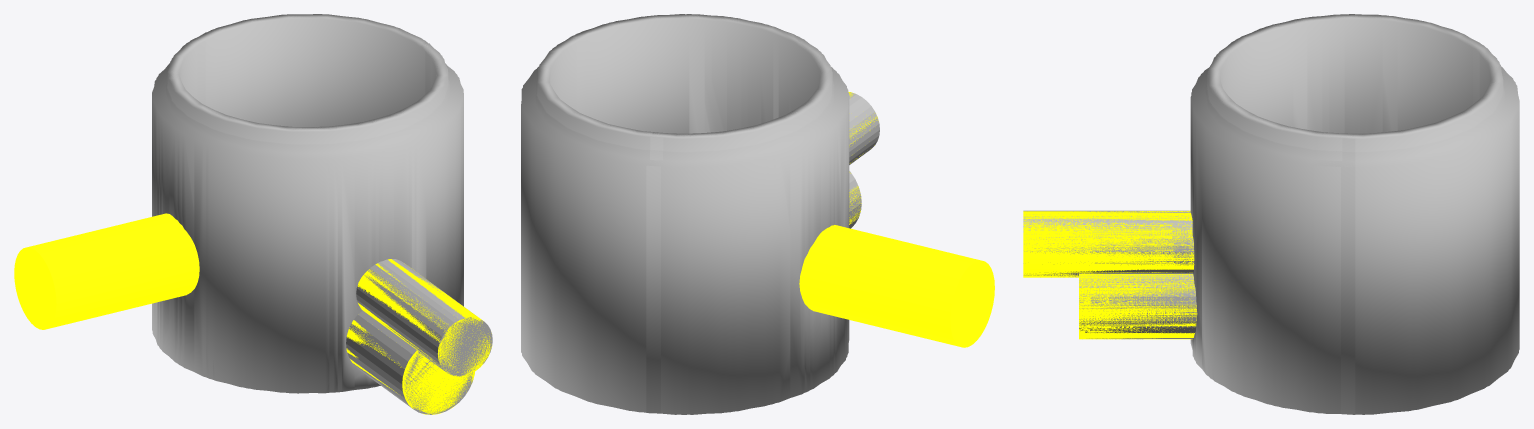
File: LOT129_9184b576.glb
3 views of the same model, side by side, from view 1: azimuth 30°, elevation 25°; view 2: azimuth 150°, elevation 25°; view 3: azimuth 270°, elevation 25° (orthographic). The views are drawn at different scales.
Parts seen in each view (by area): view 1: 1200x1.219mr_Obj, Cylinder.002, Cylinder.004, Cylinder; view 2: 1200x1.219mr_Obj, Cylinder.002; view 3: 1200x1.219mr_Obj, Cylinder.004, Cylinder.
Part boxes in pixels (x1,y1,x2,y2): 1200x1.219mr_Obj: [152, 14, 492, 414]; Cylinder.002: [14, 213, 199, 329]; Cylinder.004: [357, 259, 492, 376]; Cylinder: [346, 320, 474, 414]; 1200x1.219mr_Obj: [521, 14, 879, 414]; Cylinder.002: [799, 225, 994, 347]; 1200x1.219mr_Obj: [1023, 14, 1519, 414]; Cylinder.004: [1023, 210, 1194, 277]; Cylinder: [1079, 273, 1197, 339].
Bounding box in the file's own units: 2.22 × 1.33 × 2.22.
